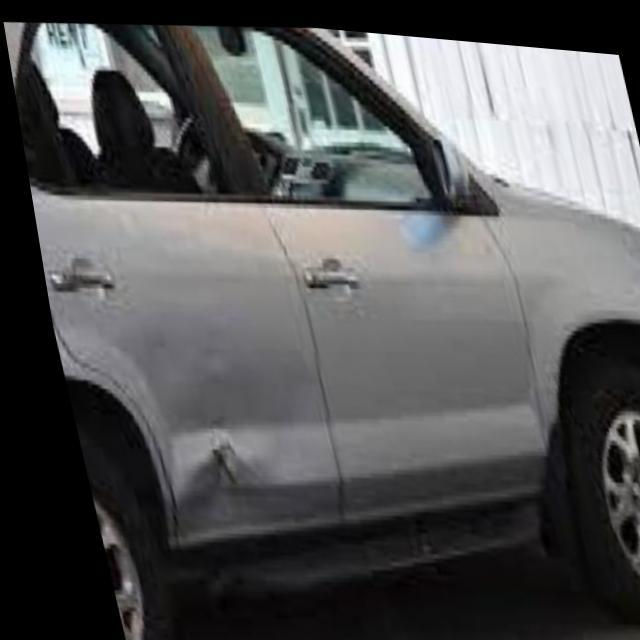crack: (174, 422, 241, 512)
